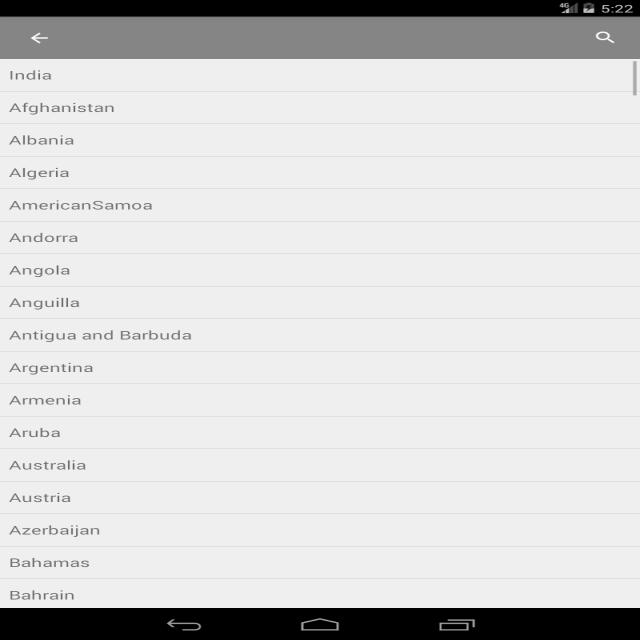ImageButton: (588, 26, 630, 49), (19, 25, 58, 49)
TextView: (5, 194, 166, 215), (4, 326, 202, 343), (5, 98, 126, 119), (2, 520, 106, 540), (6, 389, 91, 413), (4, 458, 98, 476), (6, 128, 84, 149), (8, 229, 87, 247), (0, 585, 81, 601), (6, 64, 64, 86)
